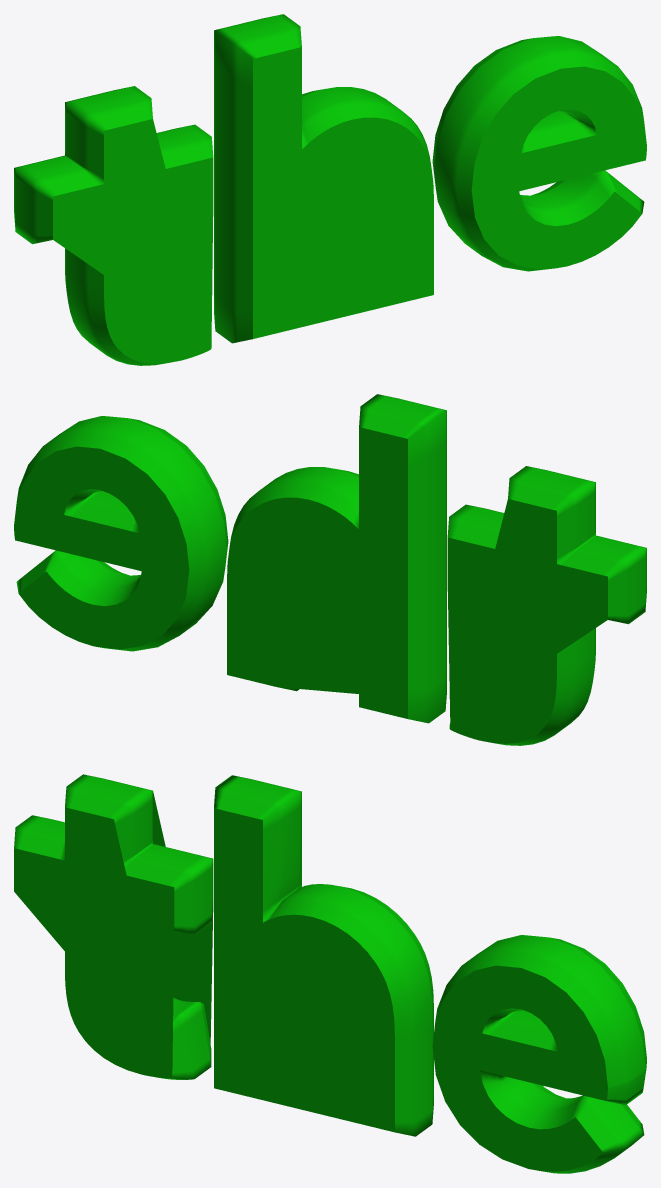
File: the3.fbx
The picture shows the model from 3 angles, top to bottom: view 1: azimuth 30°, elevation 25°; view 2: azimuth 150°, elevation 25°; view 3: azimuth 330°, elevation 25°; orthographic projection.
Parts seen in each view (by area): view 1: bevelPolygon2, bevelPolygon1, bevelPolygon3; view 2: bevelPolygon2, bevelPolygon1, bevelPolygon3; view 3: bevelPolygon2, bevelPolygon1, bevelPolygon3.
Part boxes in pixels (left/top/right/bottom): bevelPolygon2: left=214, top=14, right=433, bottom=343; bevelPolygon1: left=14, top=86, right=213, bottom=365; bevelPolygon3: left=432, top=36, right=646, bottom=271; bevelPolygon2: left=227, top=394, right=446, bottom=723; bevelPolygon1: left=447, top=466, right=646, bottom=745; bevelPolygon3: left=14, top=416, right=228, bottom=651; bevelPolygon2: left=214, top=775, right=433, bottom=1136; bevelPolygon1: left=14, top=774, right=213, bottom=1079; bevelPolygon3: left=432, top=935, right=646, bottom=1173.
Bounding box in the file's own units: 6.34 × 3.01 × 0.7.
